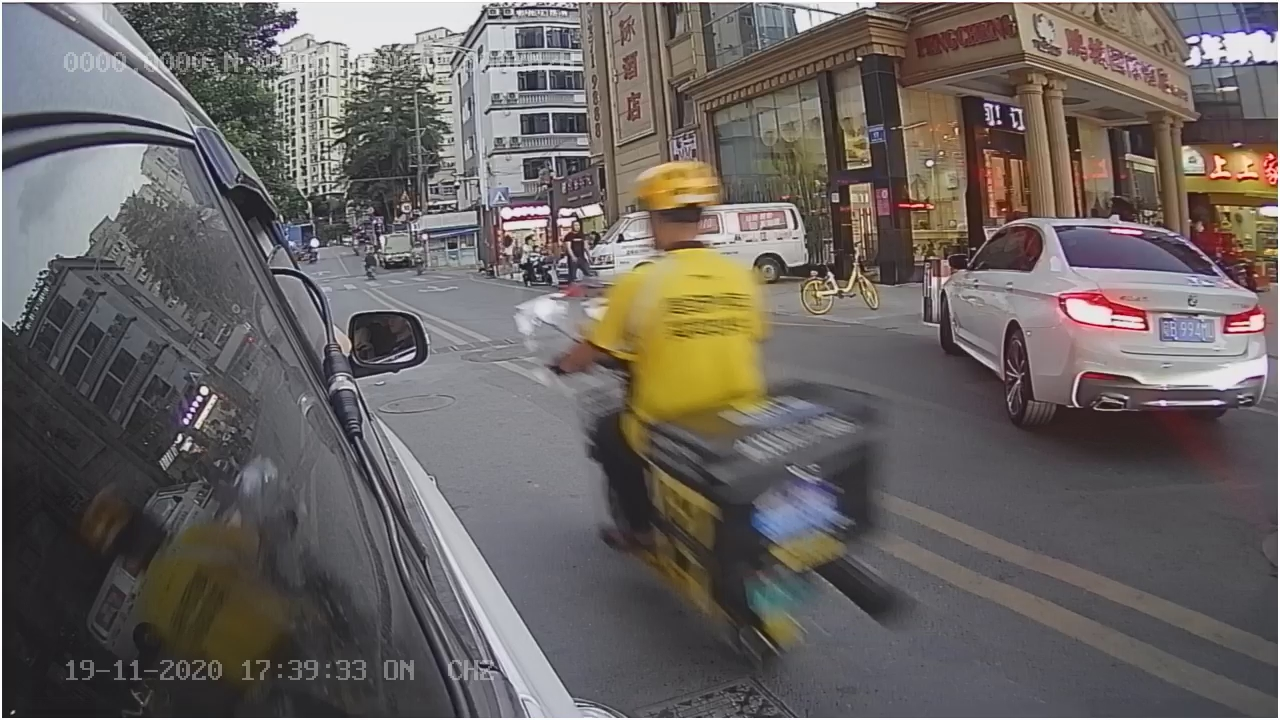person: (600, 161, 783, 413)
